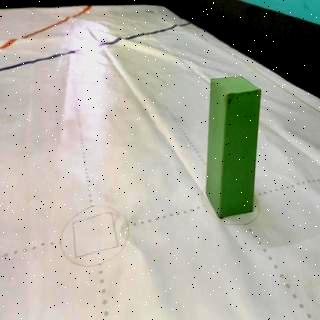greenbox: (204, 74, 263, 220)
